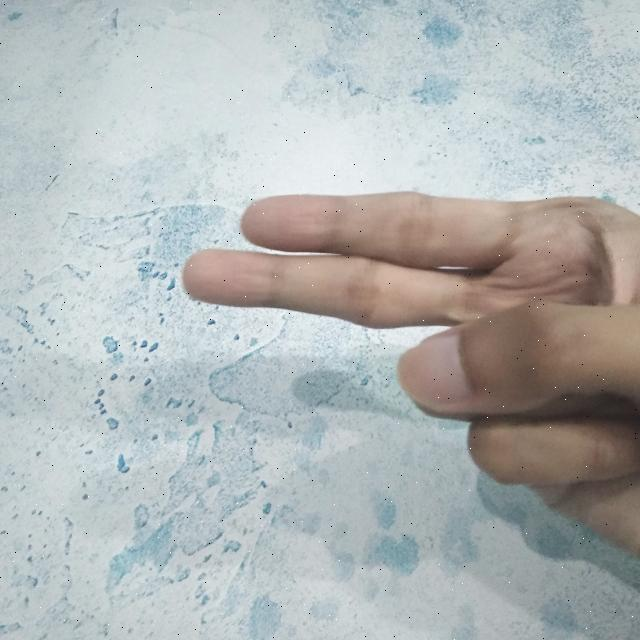H: (167, 177, 640, 565)
